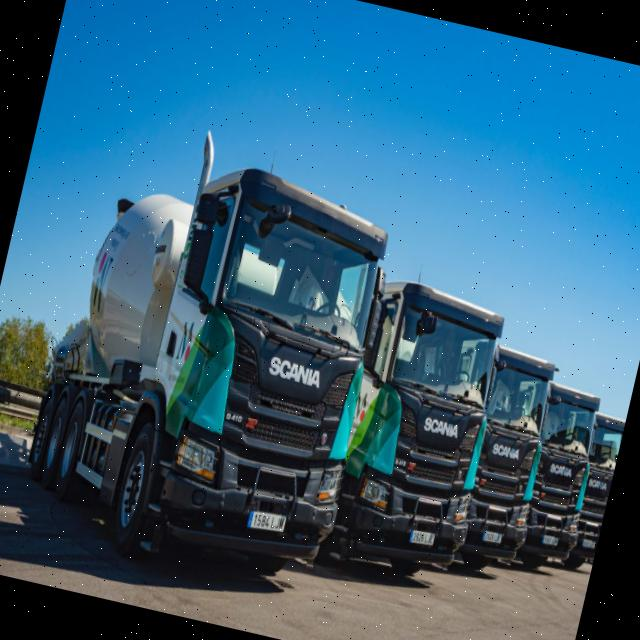Mixer Truck: (11, 133, 407, 601), (232, 256, 518, 598), (413, 334, 568, 580), (481, 372, 611, 578), (539, 404, 626, 572)
